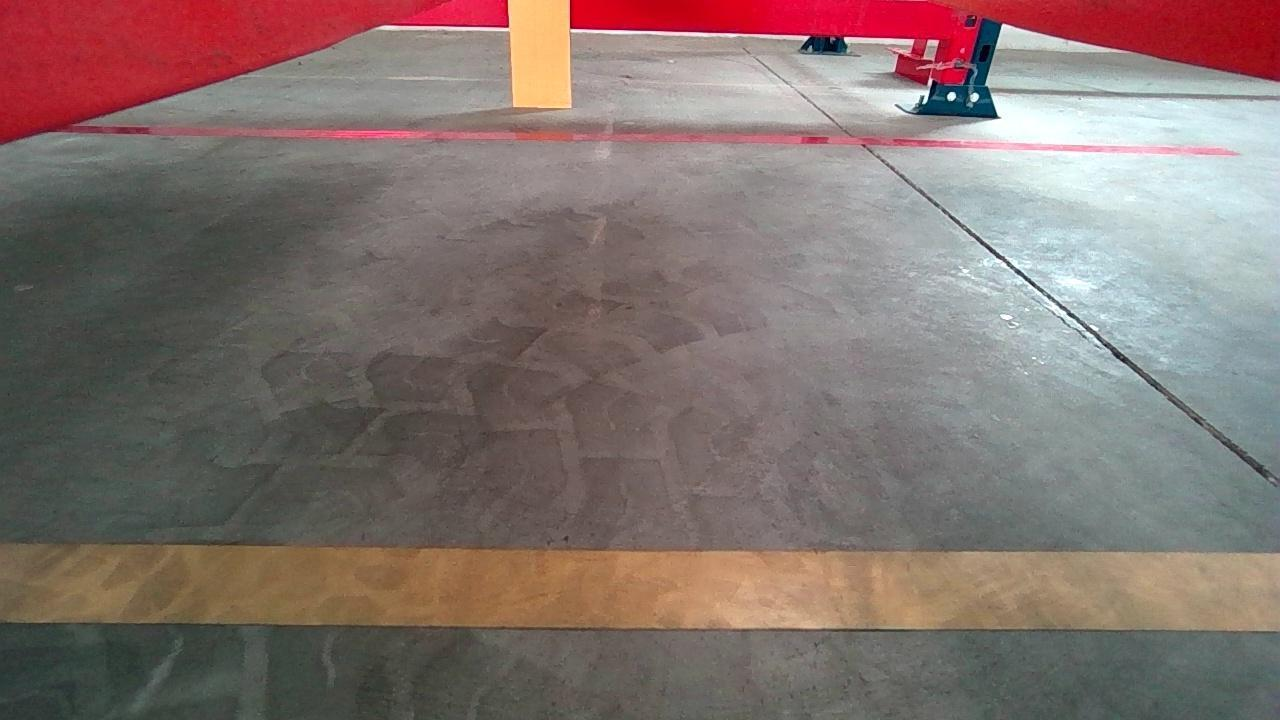h_rack: (390, 0, 978, 36)
orange_strip: (510, 0, 569, 107)
red_line: (54, 124, 1240, 157)
yellow_line: (4, 539, 1279, 631)
